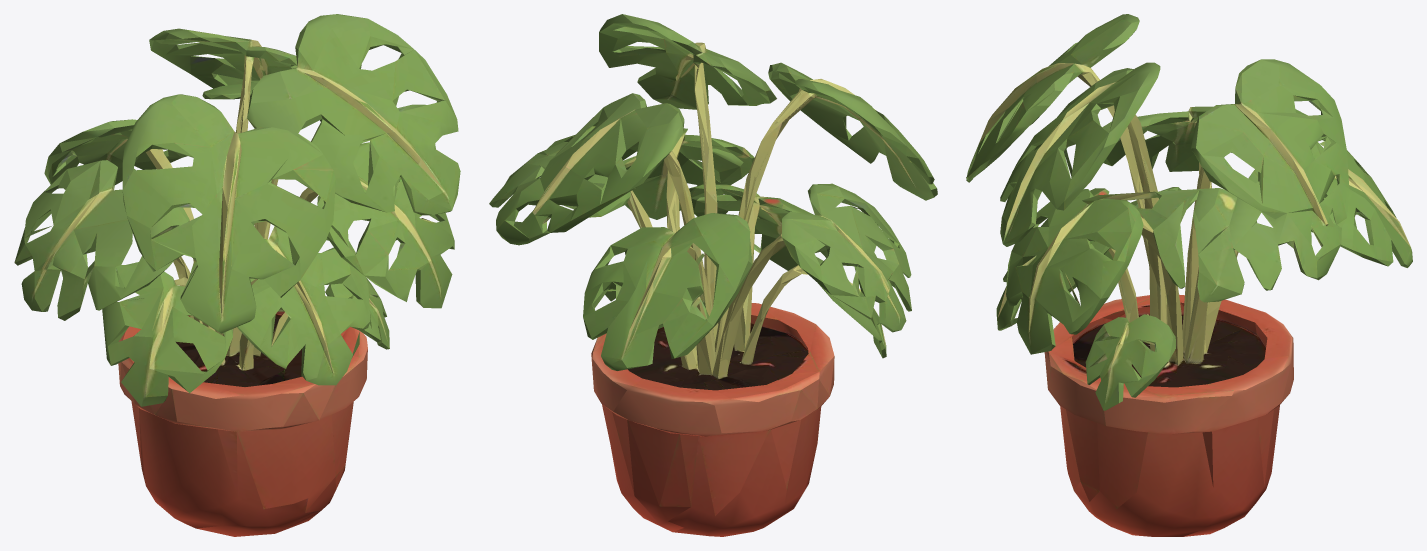
Rendered from plant.glb.
3 views of the same model, side by side, from view 1: azimuth 30°, elevation 25°; view 2: azimuth 150°, elevation 25°; view 3: azimuth 270°, elevation 25° (orthographic). The views are drawn at different scales.
Size of the model in its own units: 1.11 by 1.3 by 1.09.
Materials: 1 (1 with a texture image).
